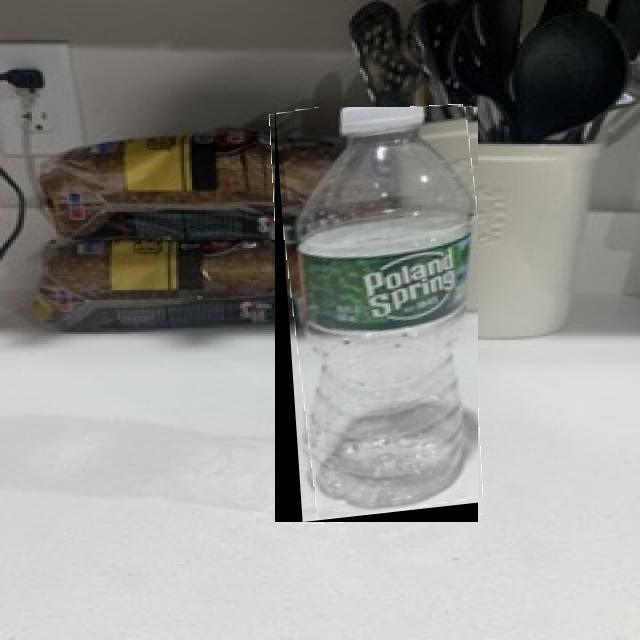water_bottle: (275, 107, 478, 522)
